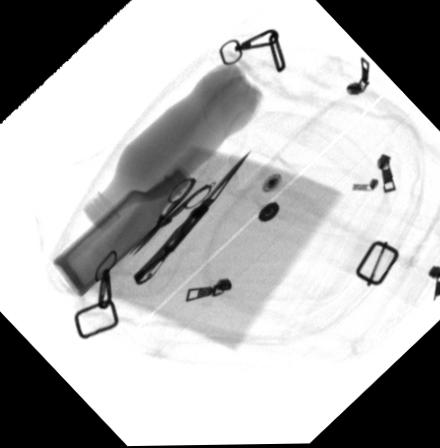Knife: (131, 149, 252, 285)
Scissors: (126, 175, 213, 255)
